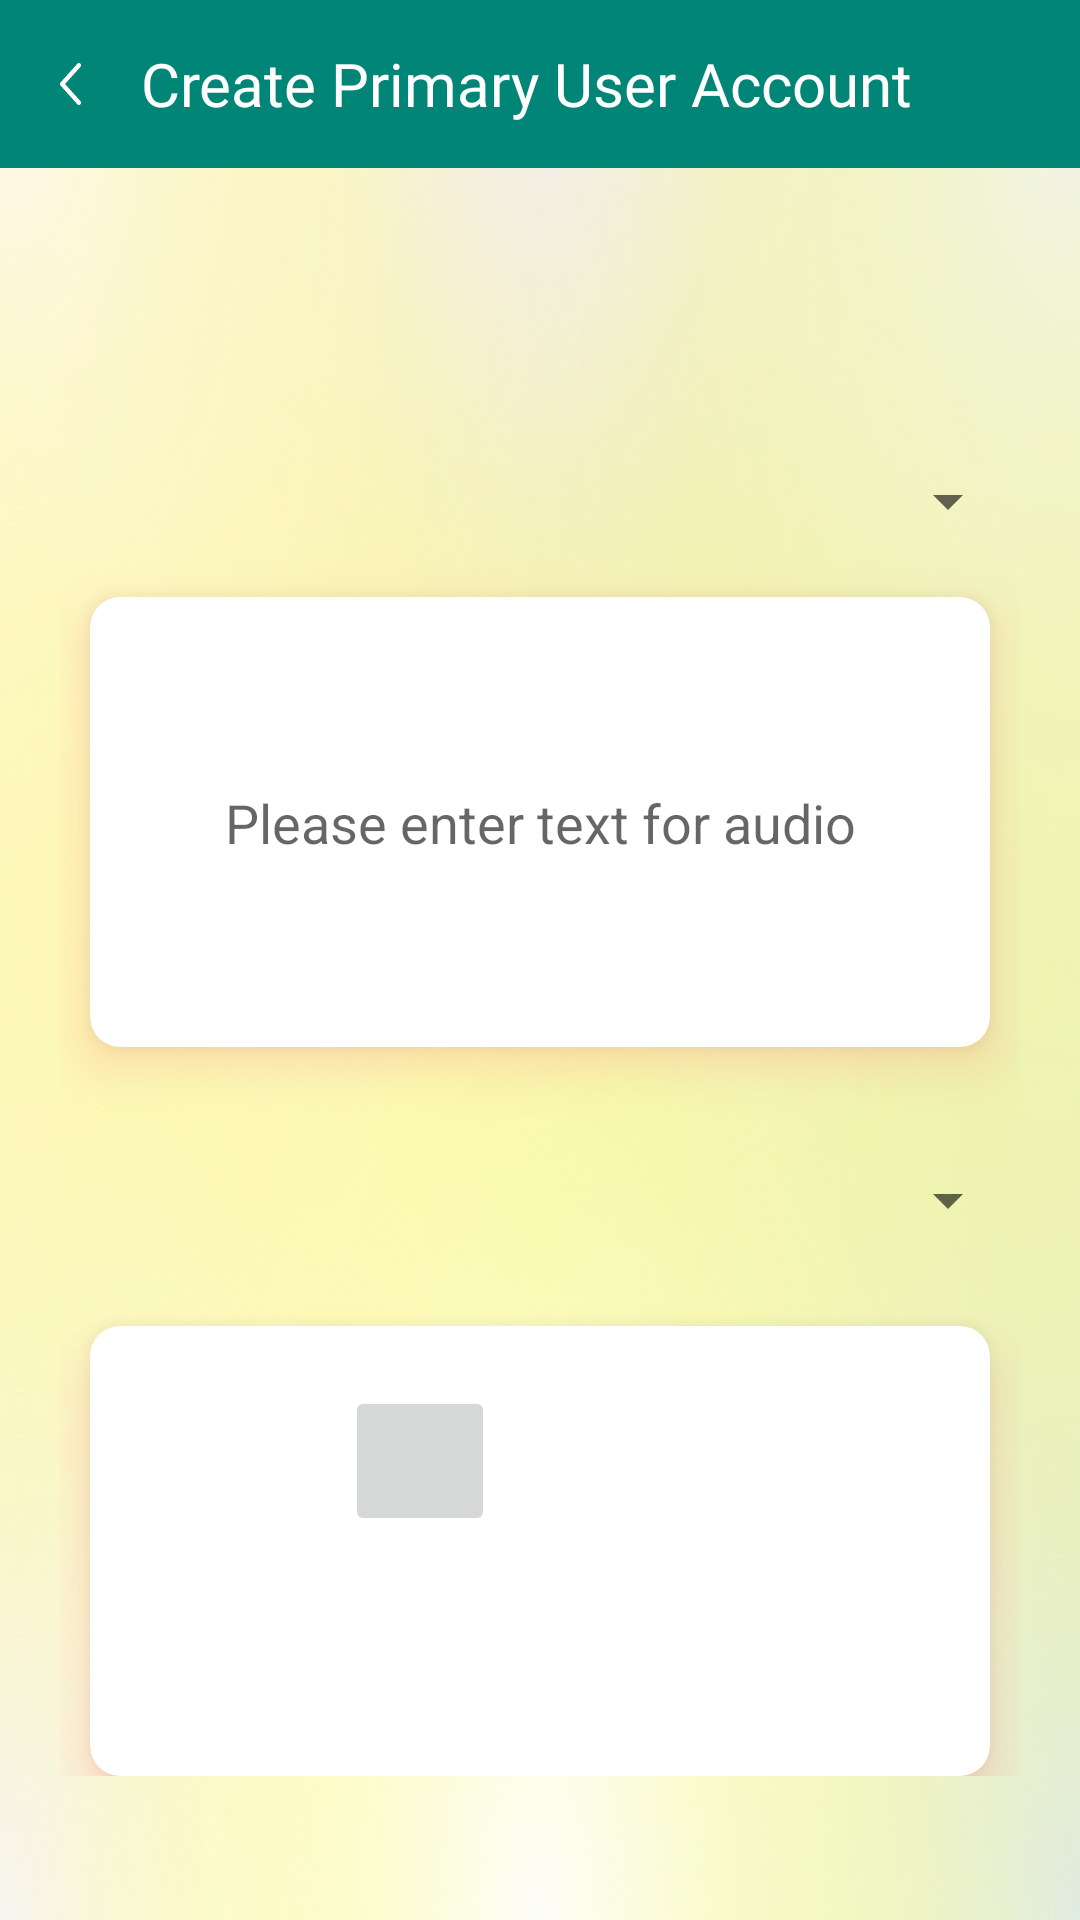

Where to tap for icons on this 1080×1920 app screen, as (x,y):
back arrow: (70,84)
